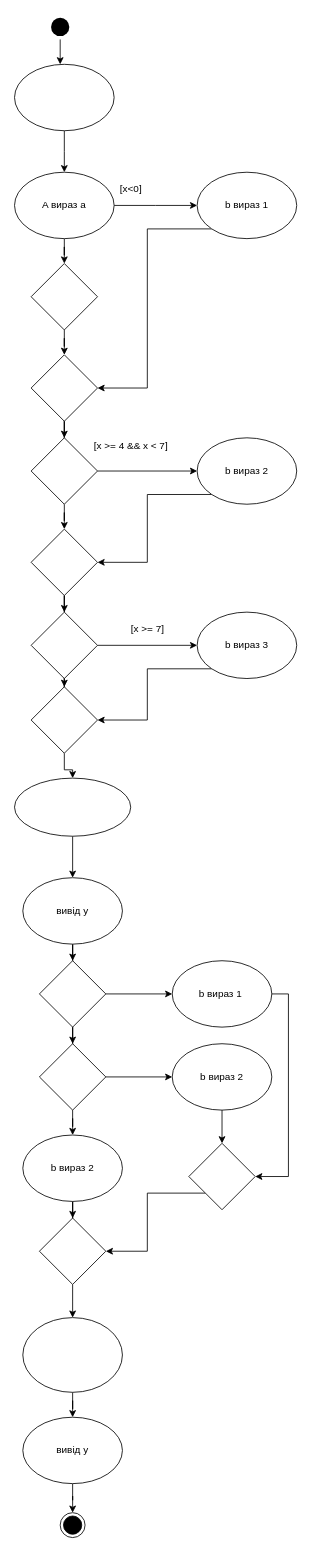
Image size: 311x1552. Some labels were removed from this diagram. Here are the shapes that lost their labels. From the top down, the centre of each, then its label:
At (64,97): "ввід х".
At (72,806): "y= a+b".
At (72,1354): "y=a+b".
